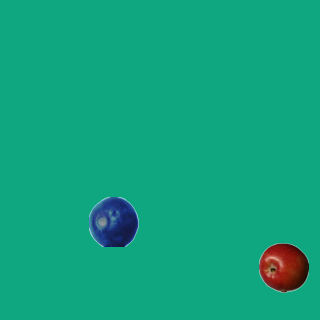Apple Braeburn: (258, 242, 308, 292)
Huckleberry: (88, 196, 138, 246)
